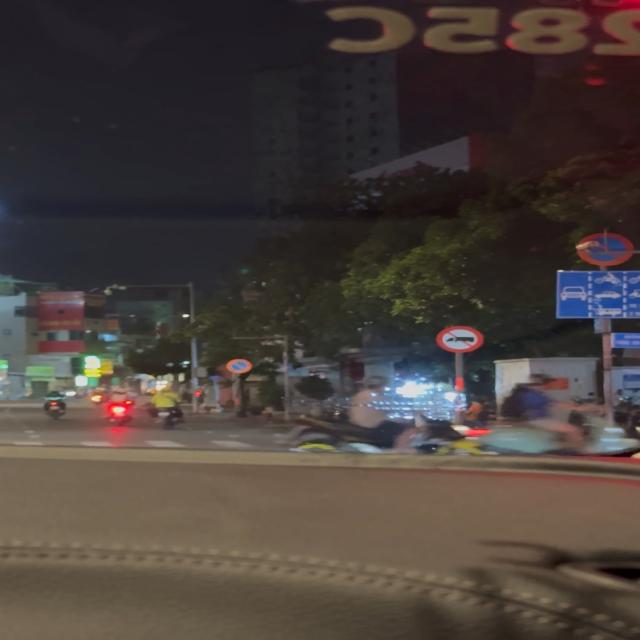Bien bao cam xe so-mi ro-mooc: (434, 325, 489, 355)
